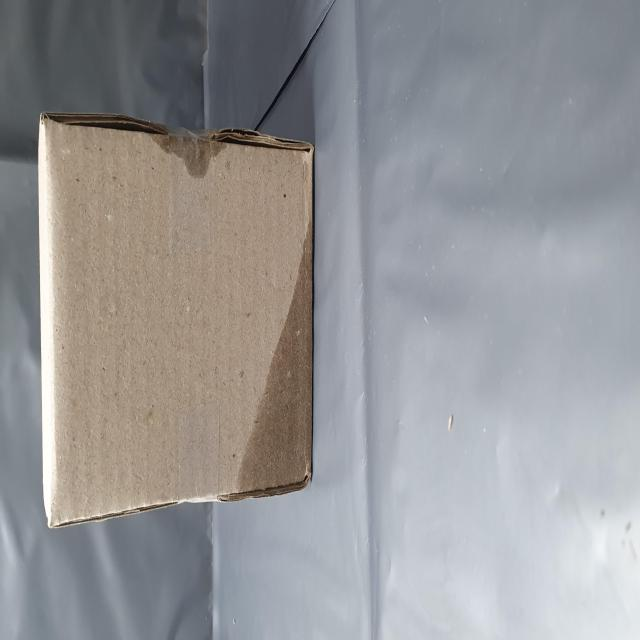wet: (78, 410, 230, 574)
